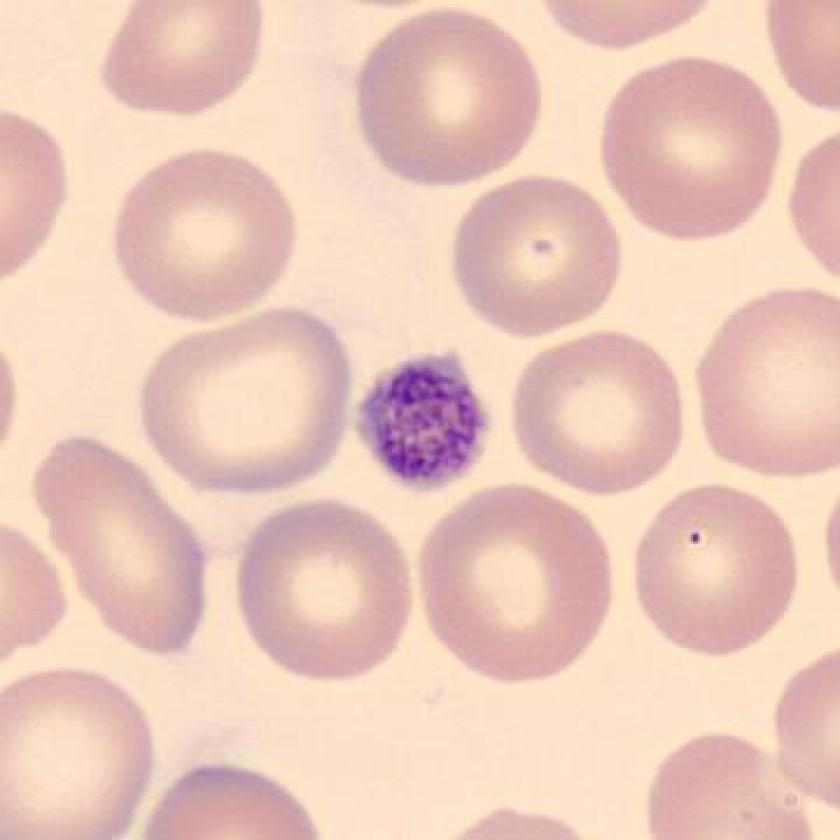platelets: (353, 341, 498, 499)
